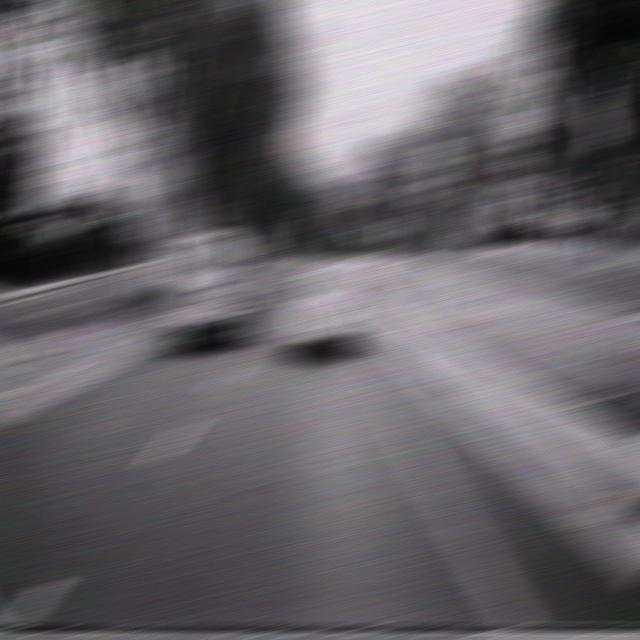speedLimit45: (419, 141, 454, 186), (46, 156, 80, 197)
